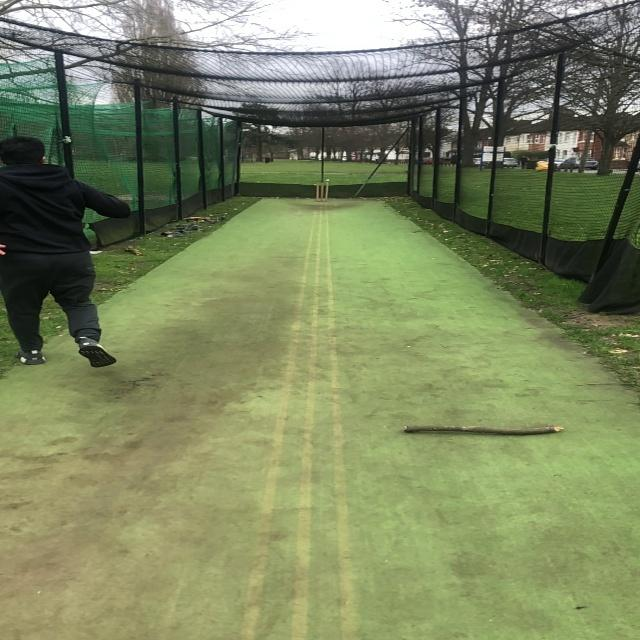ball: (326, 178, 330, 182)
